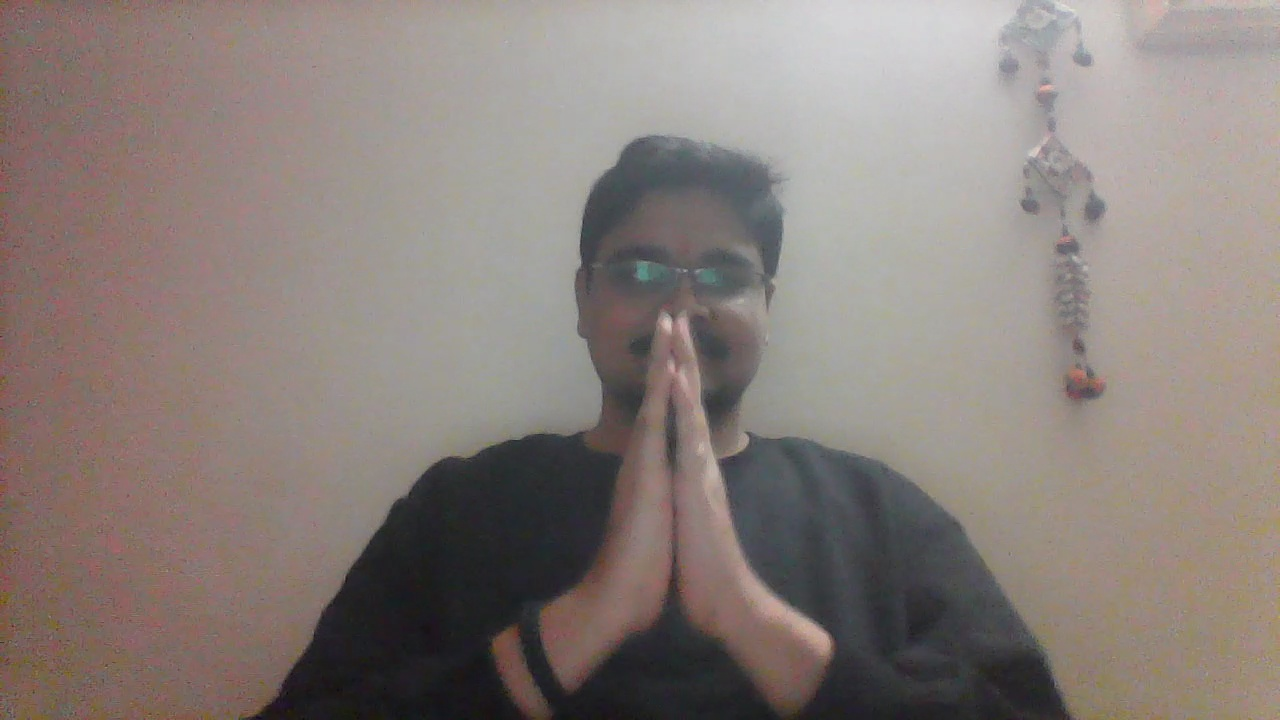Namaste: (593, 311, 744, 656)
